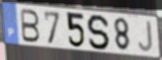5: (65, 12, 87, 49)
7: (43, 9, 62, 46)
8: (113, 17, 132, 53)
B: (20, 8, 42, 45)
J: (137, 21, 154, 54)
S: (86, 14, 112, 52)
